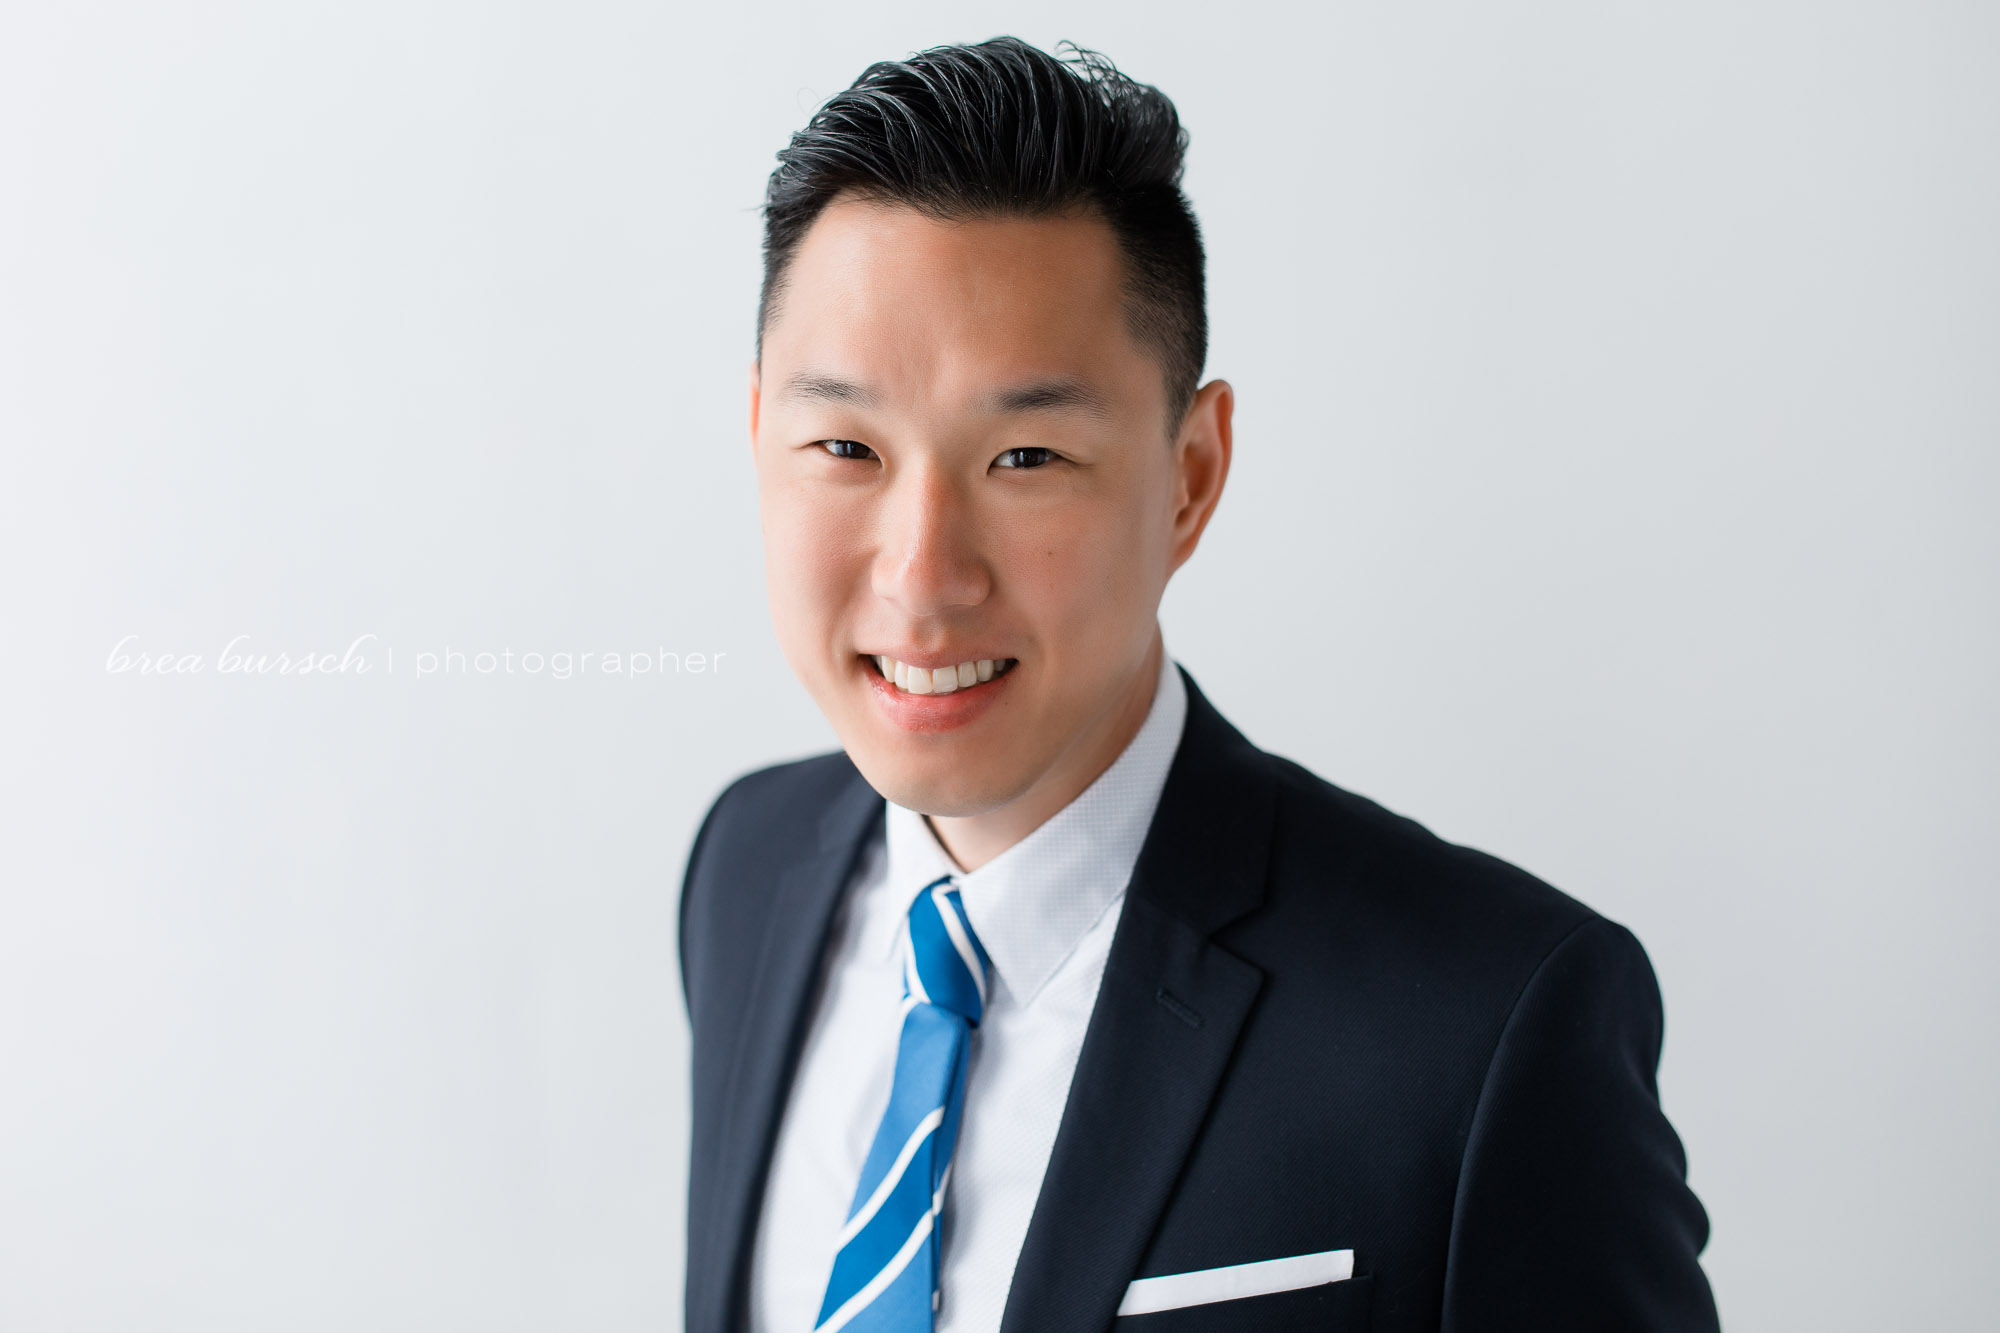bare: (762, 507, 1149, 809)
